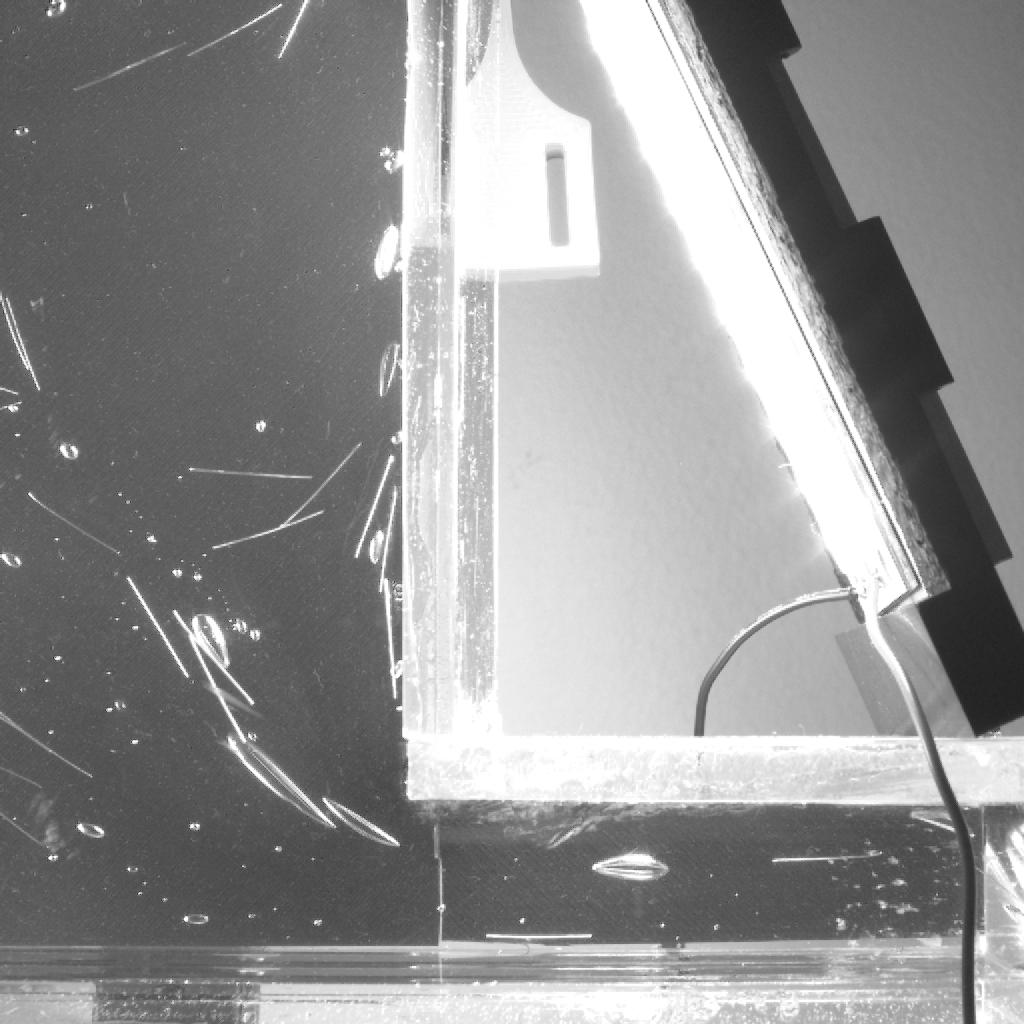Fiber: (168, 603, 260, 713), (273, 438, 371, 533), (122, 568, 196, 688), (61, 30, 193, 96), (182, 627, 250, 748), (24, 489, 127, 564), (0, 708, 98, 782), (180, 0, 293, 61), (207, 505, 330, 554), (352, 454, 400, 562), (3, 295, 46, 394), (374, 577, 403, 703), (975, 861, 1023, 926), (271, 0, 320, 63), (0, 813, 64, 857), (0, 286, 32, 373), (376, 484, 401, 595), (769, 846, 885, 866), (188, 465, 317, 480), (482, 926, 595, 941), (0, 763, 46, 792), (0, 398, 23, 416), (0, 385, 23, 398)
